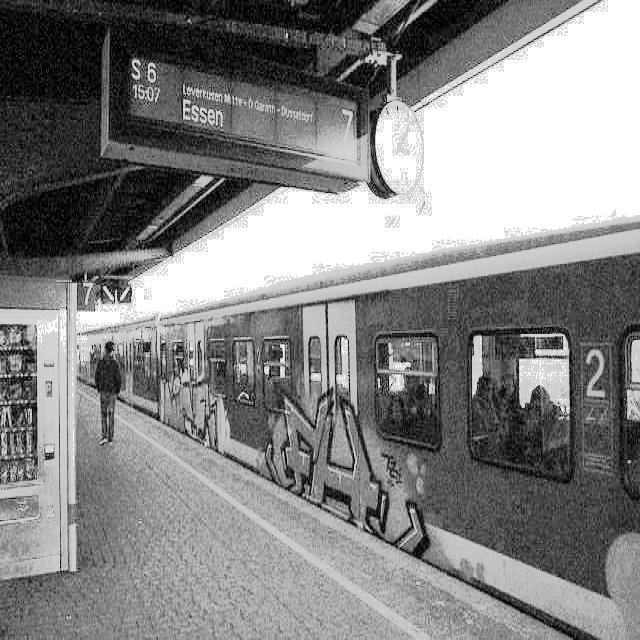Bus: (80, 194, 640, 603)
Person: (88, 332, 137, 478)
